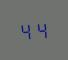four: (19, 21, 33, 40), (34, 19, 48, 38)
